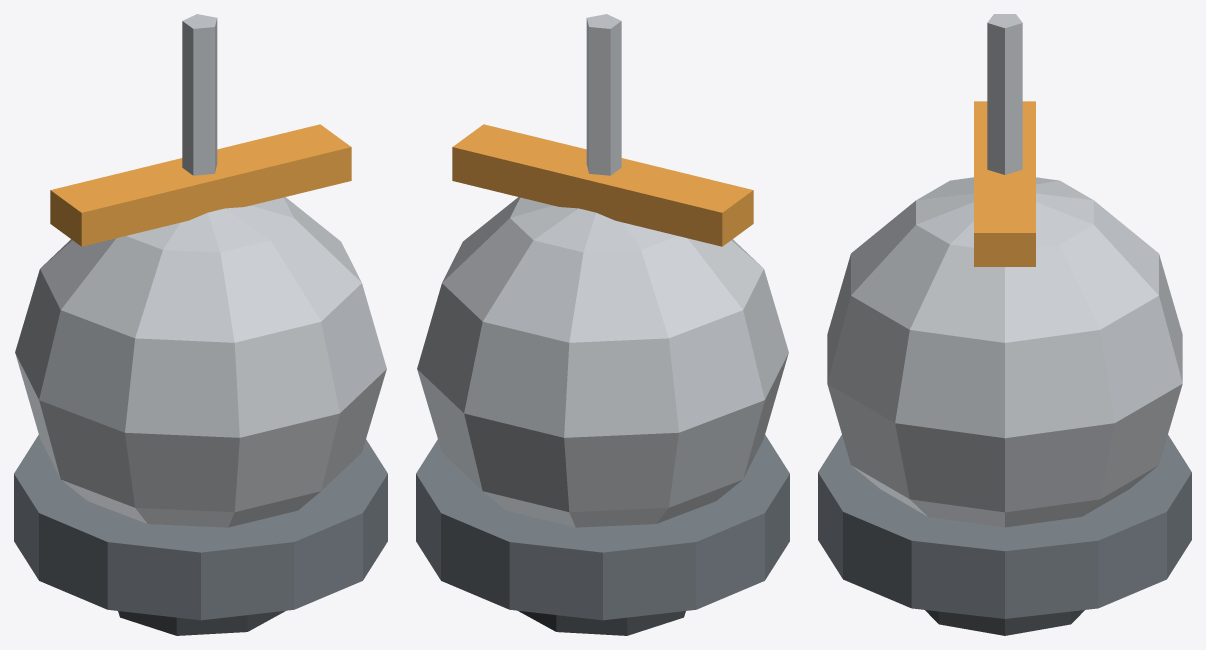
The model's file is mech-hangar-and-battle-frames-dome-radar-head-27e1dfd8__26879.glb.
3 views of the same model, side by side, from view 1: azimuth 30°, elevation 25°; view 2: azimuth 150°, elevation 25°; view 3: azimuth 270°, elevation 25° (orthographic).
Parts seen in each view (by area): view 1: dome-radar-head; view 2: dome-radar-head; view 3: dome-radar-head.
Boxes of the visible parts, x1,y1,x2,y2 form: dome-radar-head: (14,14,387,635); dome-radar-head: (416,14,789,635); dome-radar-head: (818,14,1191,635).
Bounding box in the file's own units: 0.6 × 1.02 × 0.6.
